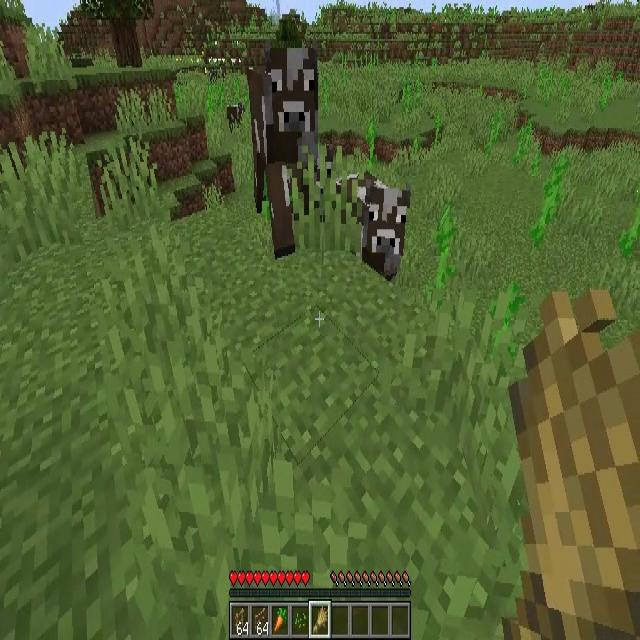cow: (247, 52, 319, 253), (333, 176, 408, 276), (226, 99, 244, 132)
